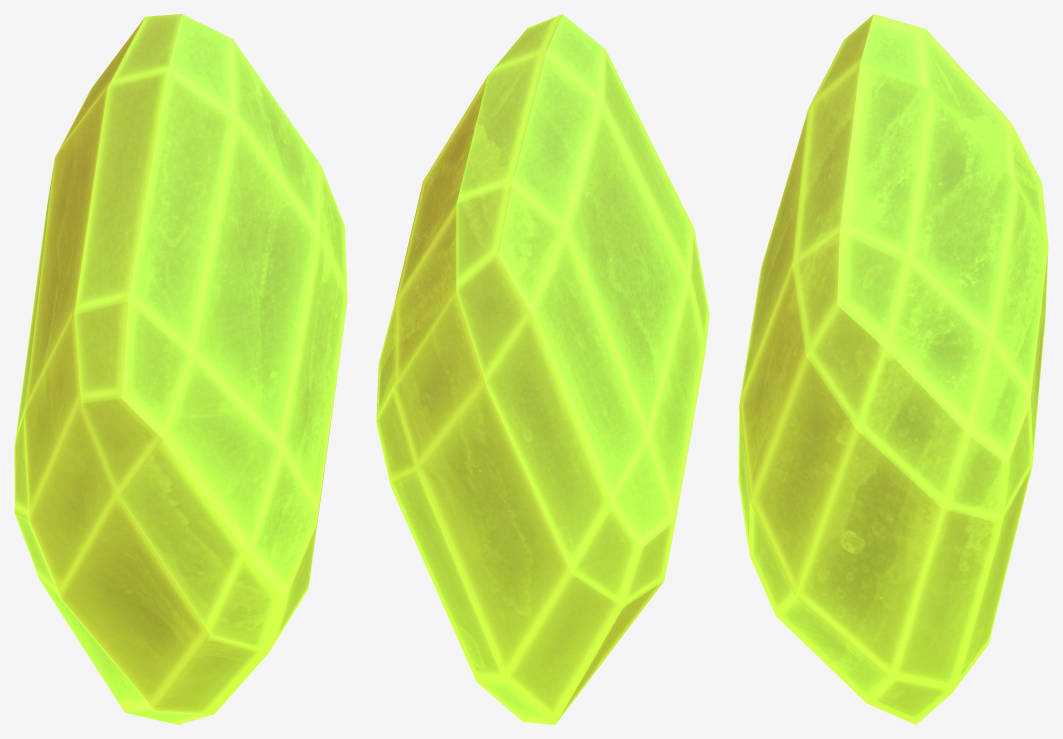
3 views of the same model, side by side, from view 1: azimuth 30°, elevation 25°; view 2: azimuth 150°, elevation 25°; view 3: azimuth 270°, elevation 25° (orthographic). The views are drawn at different scales.
Visible parts, largest first — view 1: defaultMateria; view 2: defaultMateria; view 3: defaultMateria.
Boxes of the visible parts, x1=… form: defaultMateria: x1=14, y1=14, x2=347, y2=724; defaultMateria: x1=376, y1=14, x2=709, y2=724; defaultMateria: x1=738, y1=14, x2=1048, y2=724.
Size of the model in its own units: 26.5 by 64.23 by 25.71.
